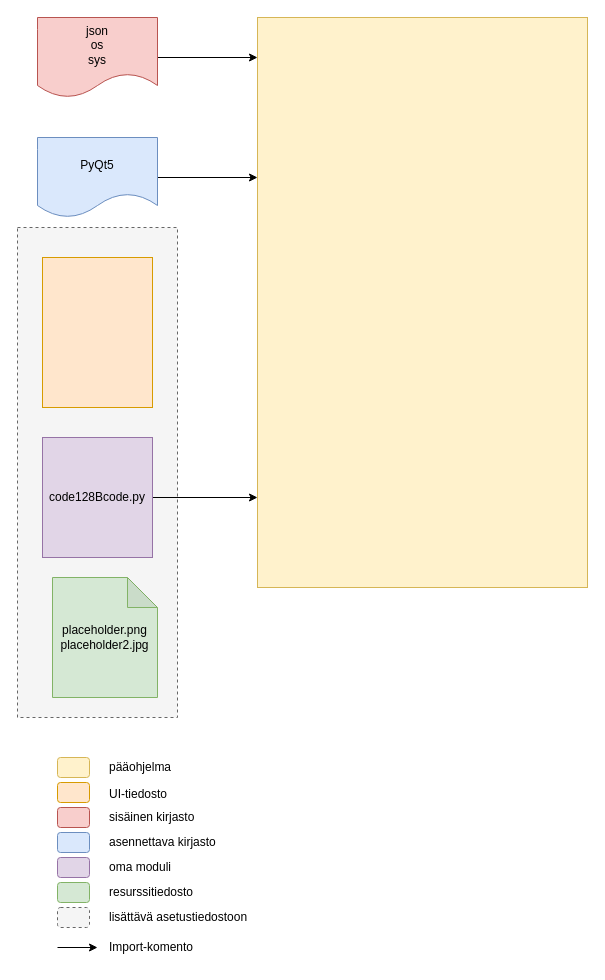
This 605x980 diagram has some shape labels left out. The centre of each missing label's shape, as x and y in pixels:
opiskelijatarra.py: pixel 422 302
opiskelijatarra.ui: pixel 97 332
